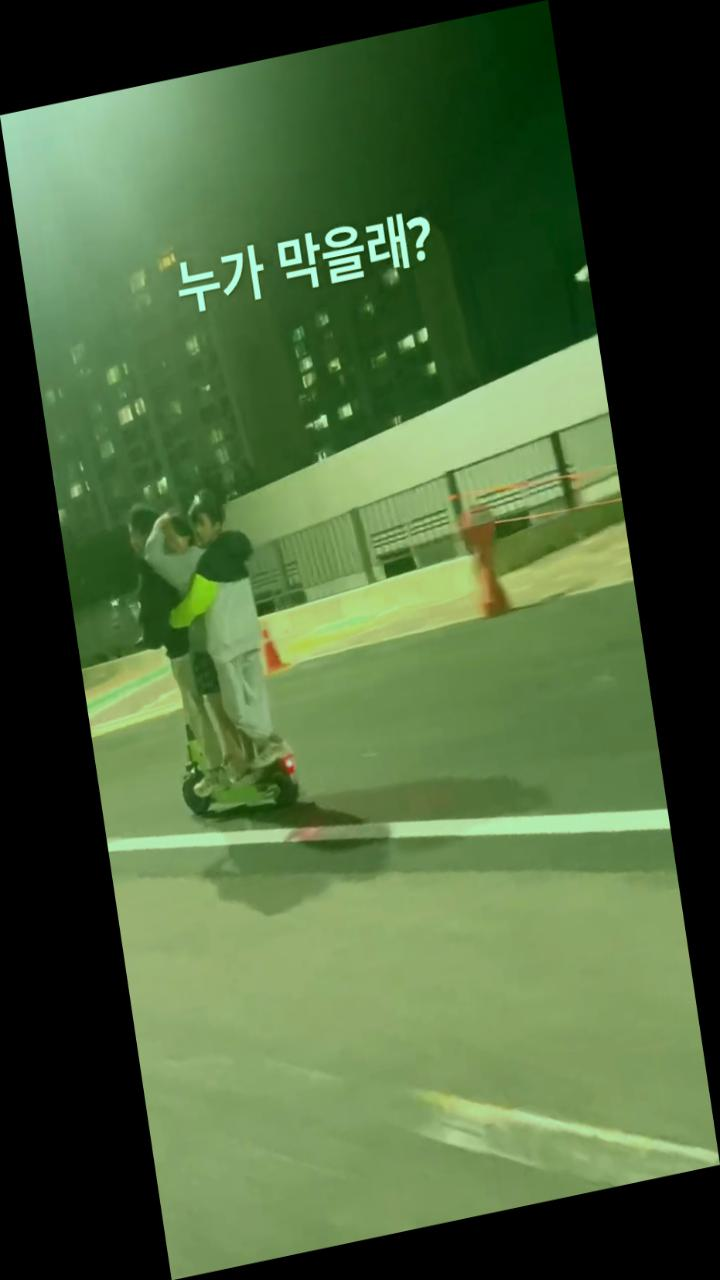multiple: (116, 477, 302, 830)
